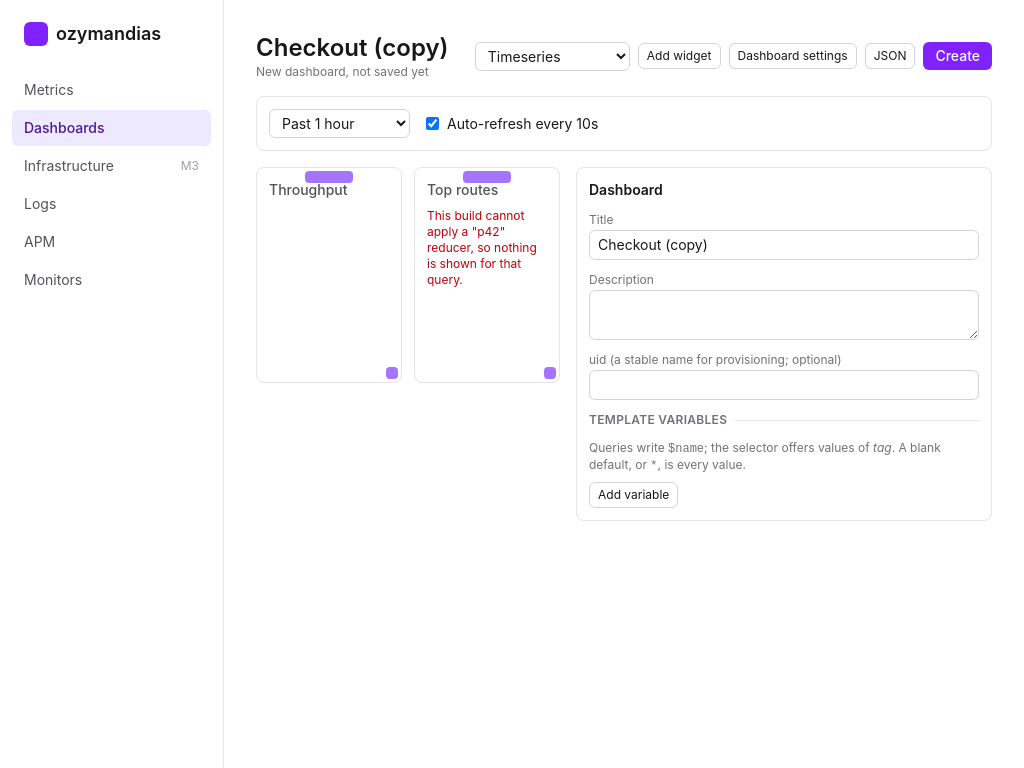
Test: where a draft comes from › copies a stored dashboard without its uid, and creates it
Expected: the heading "Checkout (copy)" is shown, [256, 32, 448, 64]
Click the button "Create".
click(958, 56)  # box [923, 42, 992, 70]
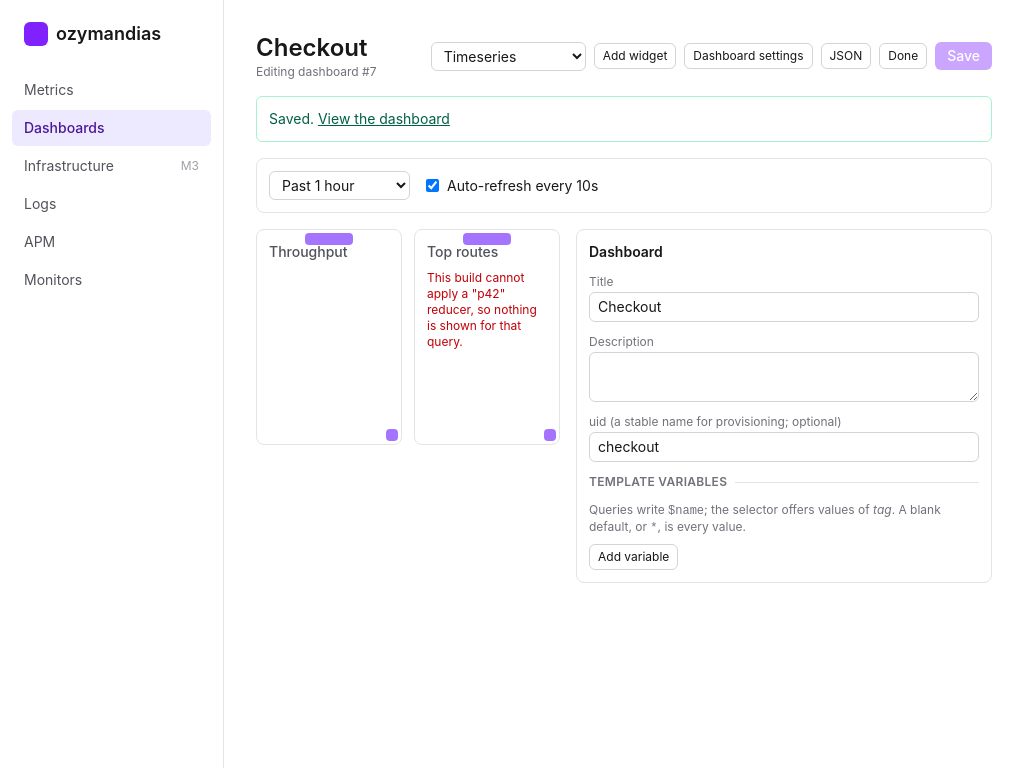
Expected: the text "Editing dashboard #7" is shown, [256, 64, 376, 80]
Expected: the text "Saved." is shown, [269, 110, 314, 127]
